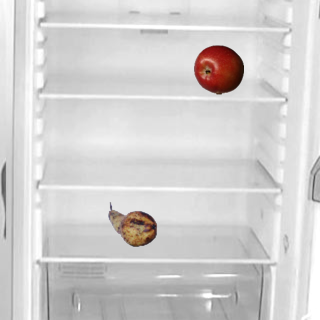Apple Braeburn: (193, 44, 243, 94)
Pear Abate: (107, 199, 157, 249)
